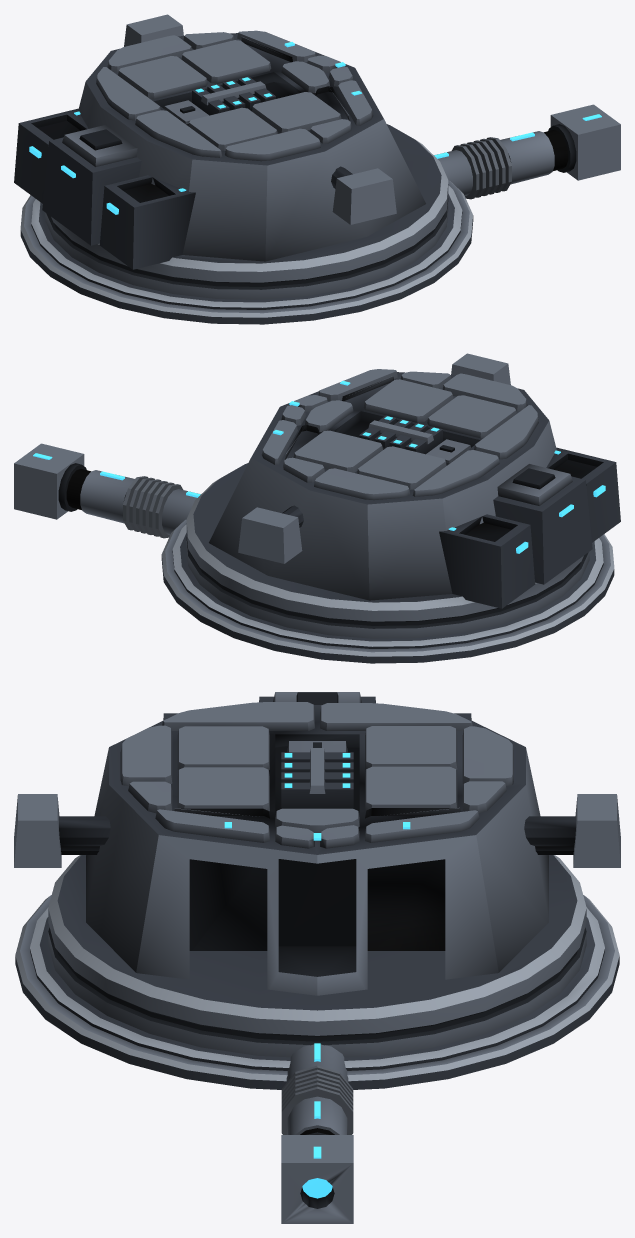
File: yamato_lod1.glb
The picture shows the model from 3 angles, top to bottom: view 1: azimuth 30°, elevation 25°; view 2: azimuth 150°, elevation 25°; view 3: azimuth 270°, elevation 25°; orthographic projection. The views are drawn at different scales.
Visible parts, largest first — view 1: housing, ring, barrel; view 2: housing, ring, barrel; view 3: housing, ring, barrel.
Part boxes in pixels (x1=…): housing: x1=14, y1=14, x2=448, y2=299; ring: x1=20, y1=180, x2=473, y2=324; barrel: x1=434, y1=104, x2=620, y2=199; housing: x1=186, y1=353, x2=620, y2=638; ring: x1=161, y1=519, x2=614, y2=663; barrel: x1=14, y1=443, x2=200, y2=538; housing: x1=14, y1=692, x2=620, y2=1057; ring: x1=15, y1=895, x2=619, y2=1089; barrel: x1=281, y1=1043, x2=353, y2=1223.
Size of the model in its own units: 64.9 by 19.08 by 46.
